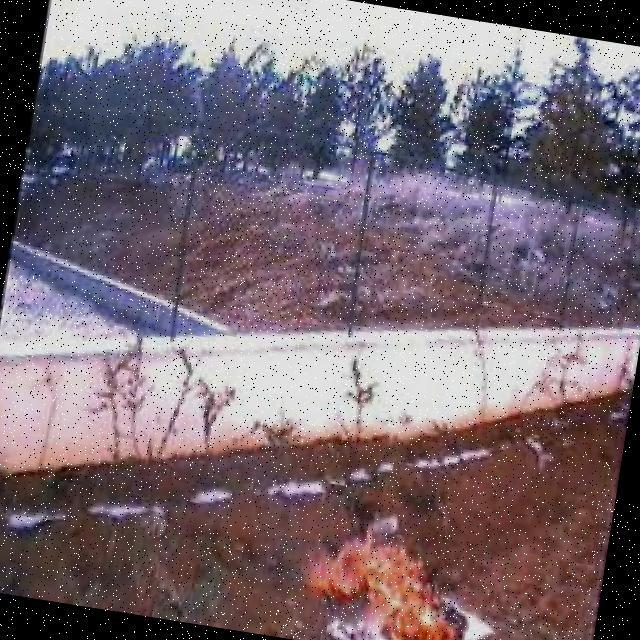Fire: (295, 503, 488, 640)
